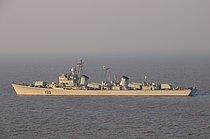MIL_Ship: (10, 56, 197, 97)
